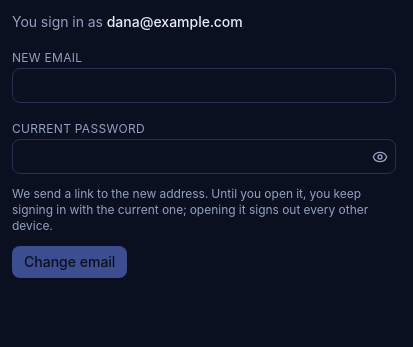
Test: changing the email › sends the normalised address and the password, and keeps the current one until the link is opened (D259)
Type "  Dana.Levi@Example.com " into the field labelled "New email". click: (204, 86)
box: [12,68,396,103]
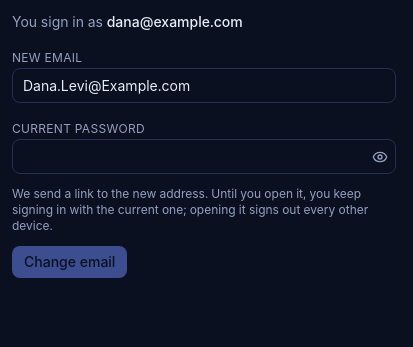
Type "current password" into the password field labelled "Current password". click: (204, 156)
box: [12,139,396,174]
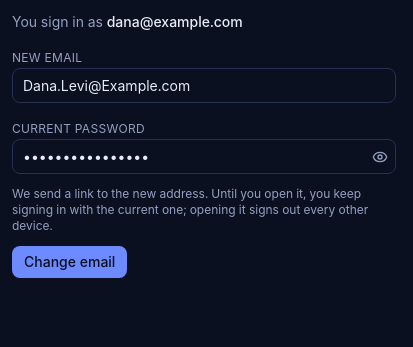
Click the button "Change email". click: (70, 262)
box: [12,246,127,278]
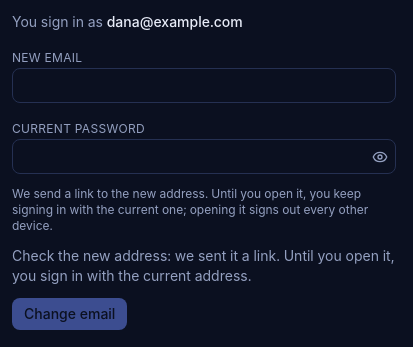
Expected: the text "dana@example.com" is shown, [107,13,243,30]
Expected: the text "Check the new address" is shown, [12,247,394,284]
